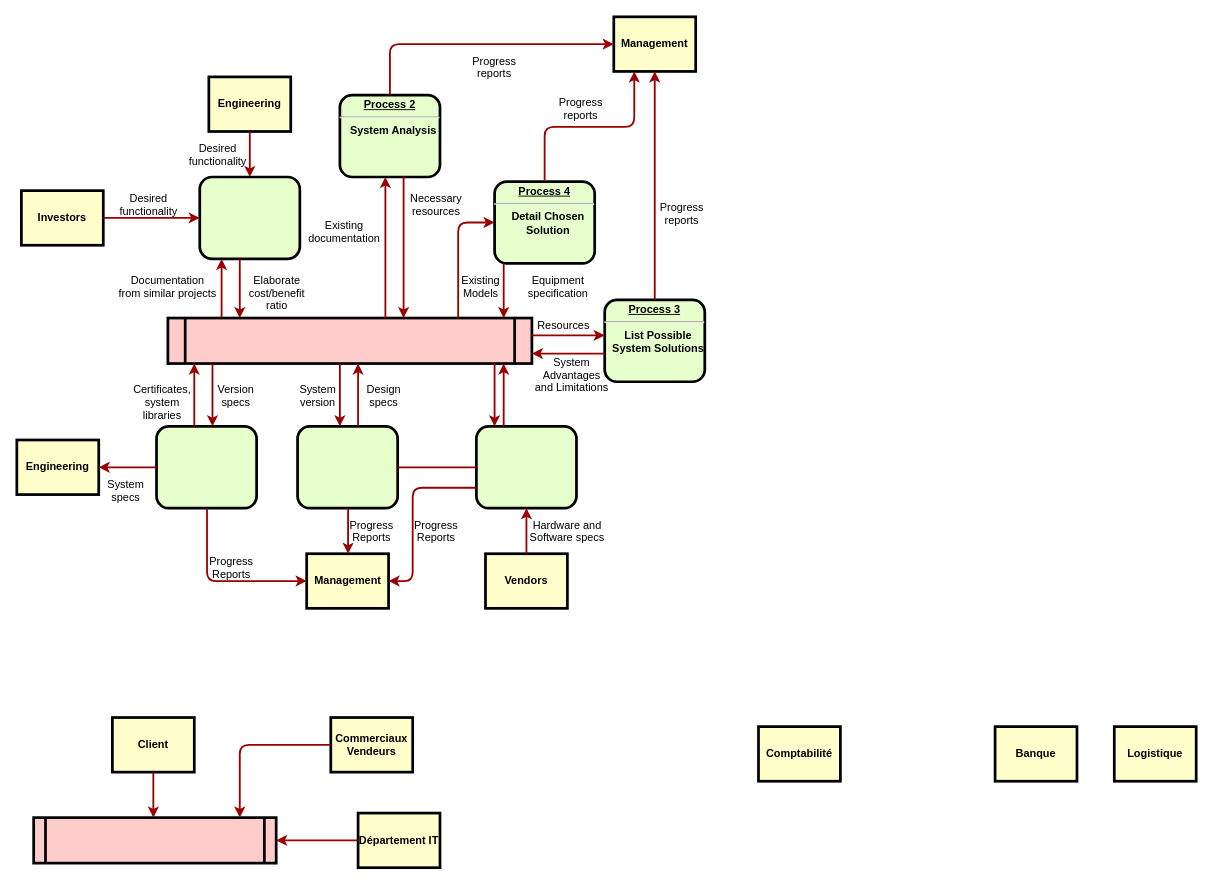
This 1213x885 diagram has some shape labels left out. Here are the shapes that lost their labels. From the top down, the centre of each, then its label:
the point at 249,217: Process 1 System Study Preparation
the point at 349,340: ON-DEMAND SYSTEM DEVELOPMENT
the point at 206,467: Process 6 New System Construction
the point at 347,467: Process 7 New System Startup and Testing
the point at 526,467: Process 5 New System Design
the point at 154,840: Plateforme e-Commerce
